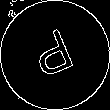P_SE: (28, 24, 82, 86)
